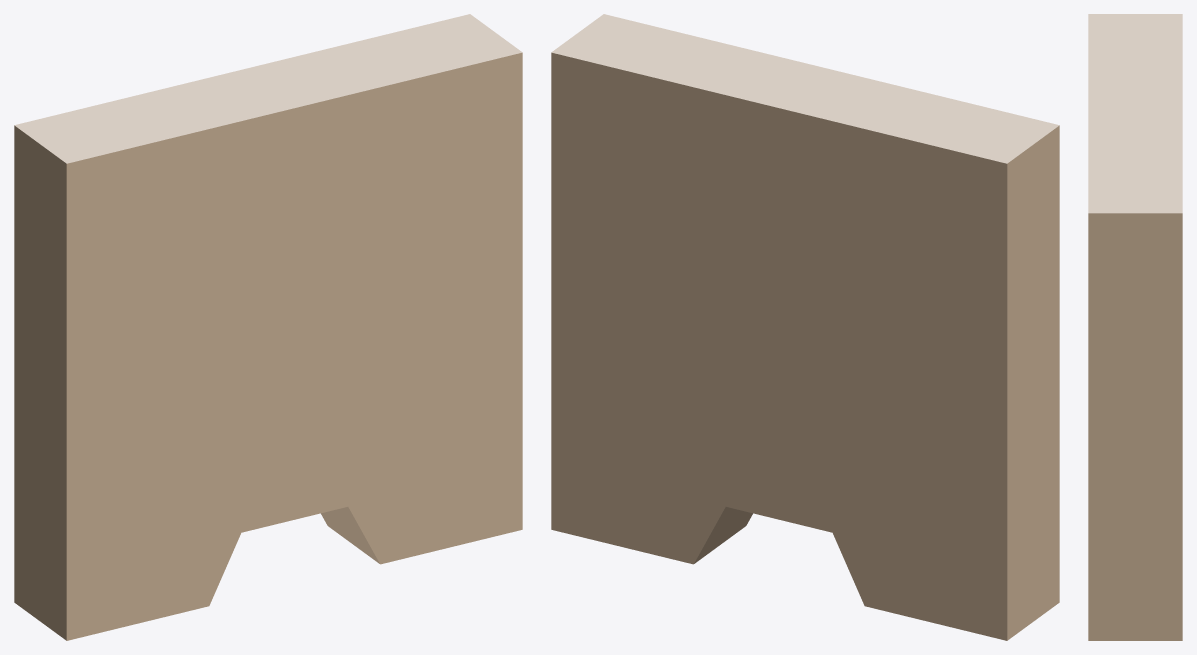
The model's file is Puzzle_Wall_Conduit_Passthrough.fbx.
3 renders of one model, left to right at view 1: azimuth 30°, elevation 25°; view 2: azimuth 150°, elevation 25°; view 3: azimuth 270°, elevation 25°, orthographic. The views are drawn at different scales.
Parts seen in each view (by area): view 1: Sandstone_Trim.object1, Sandstone_Floor; view 2: Sandstone_Trim.object1, Sandstone_Floor; view 3: Sandstone_Trim.object1, Sandstone_Floor.
Boxes of the visible parts, x1,y1,x2,y2 form: Sandstone_Trim.object1: (14,52,522,640); Sandstone_Floor: (14,14,522,163); Sandstone_Trim.object1: (551,52,1059,640); Sandstone_Floor: (551,14,1059,163); Sandstone_Trim.object1: (1088,213,1182,640); Sandstone_Floor: (1088,14,1182,213).
Bounding box in the file's own units: 1 × 1 × 0.2.
